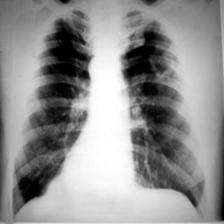tuberculosis: (4, 3, 209, 224)
